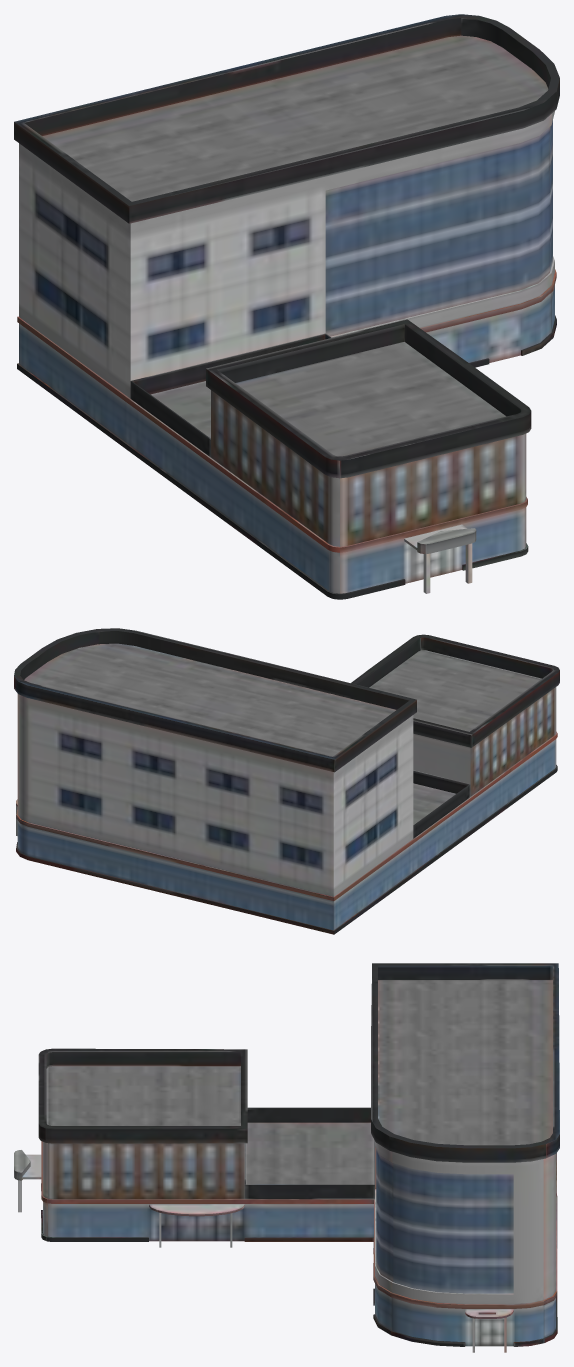
Rendered from office.glb.
The picture shows the model from 3 angles, top to bottom: view 1: azimuth 30°, elevation 25°; view 2: azimuth 150°, elevation 25°; view 3: azimuth 270°, elevation 25°; orthographic projection. The views are drawn at different scales.
Parts seen in each view (by area): view 1: Cube.002_DefaultMaterial_0; view 2: Cube.002_DefaultMaterial_0; view 3: Cube.002_DefaultMaterial_0.
Part boxes in pixels (x1,y1,x2,y2): Cube.002_DefaultMaterial_0: (14, 14, 559, 599); Cube.002_DefaultMaterial_0: (14, 628, 559, 934); Cube.002_DefaultMaterial_0: (14, 963, 559, 1352).
Size of the model in its own units: 57.29 by 27.93 by 69.02.
1 material, 1 textured.
